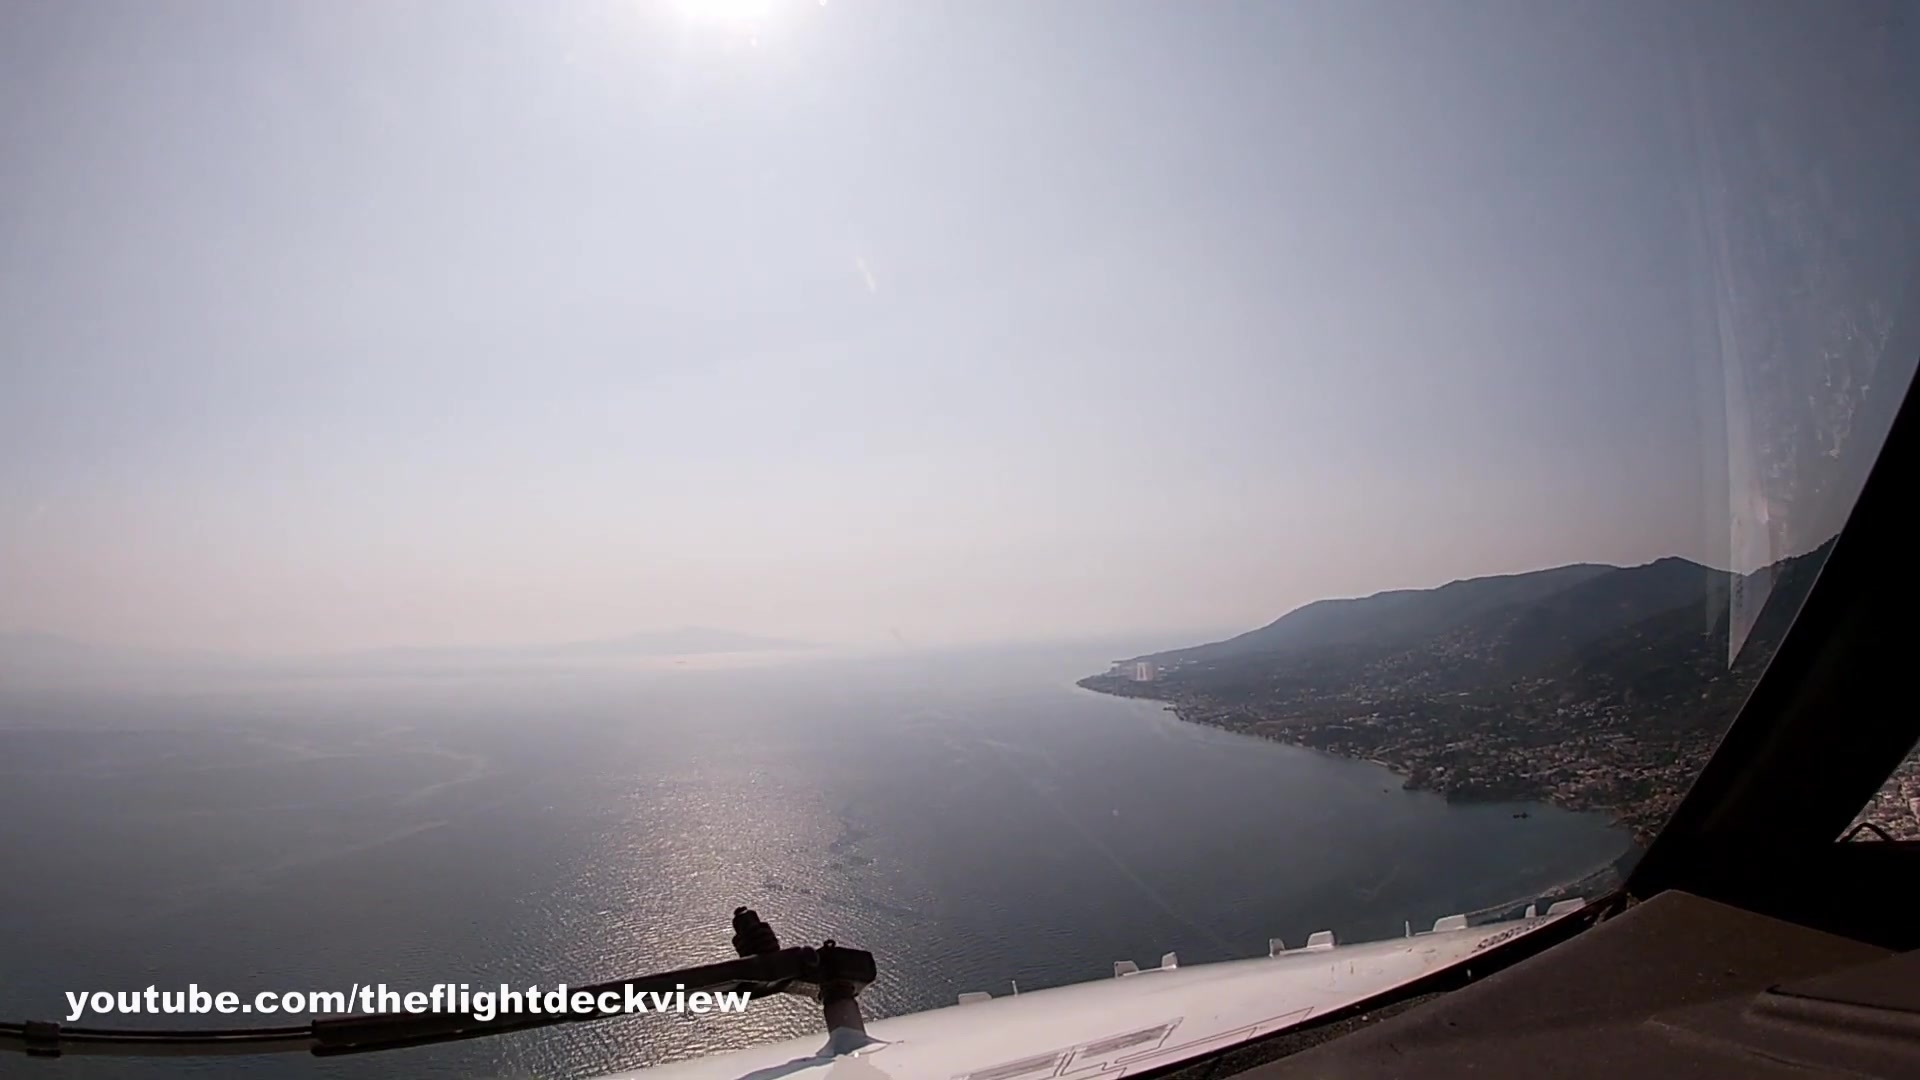runway: (1135, 659, 1149, 682)
